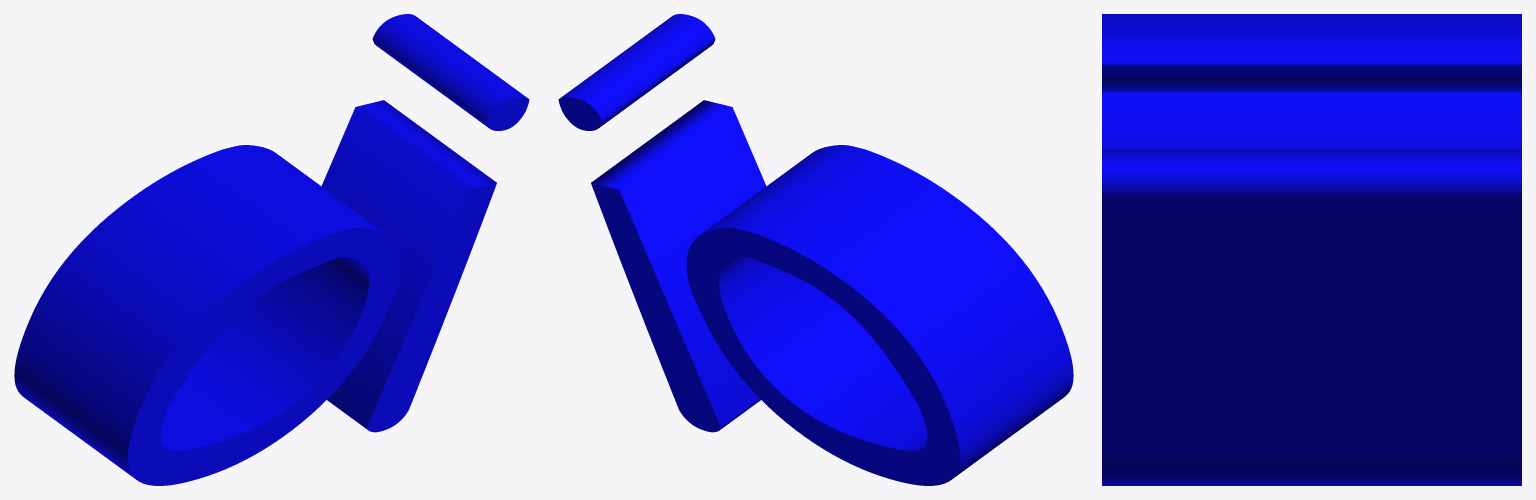
The picture shows the model from 3 angles, left to right: view 1: azimuth 30°, elevation 25°; view 2: azimuth 150°, elevation 25°; view 3: azimuth 270°, elevation 25°; orthographic projection. The views are drawn at different scales.
Visible parts, largest first — view 1: Text; view 2: Text; view 3: Text.
Part boxes in pixels (x1,y1,x2,y2): Text: (14,14,529,485); Text: (558,14,1073,485); Text: (1102,14,1521,485).
Size of the model in its own units: 0.9228 by 0.6683 by 0.45.
